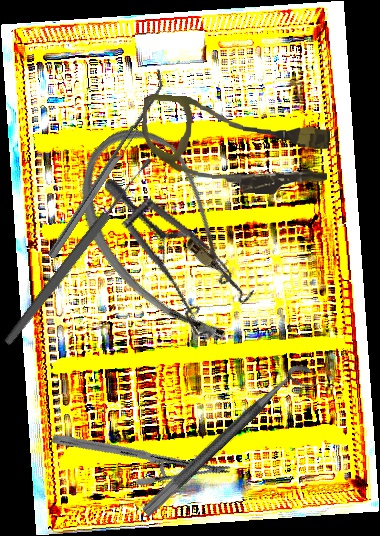Cannula: (46, 108, 290, 363), (138, 93, 332, 199)
Fixation Ring: (140, 358, 322, 531)
Needle Holder: (49, 383, 234, 526)
Spatula Surgical: (40, 67, 173, 260)
Speculum: (64, 177, 274, 354)
Surgical Spoon: (1, 154, 156, 349)
